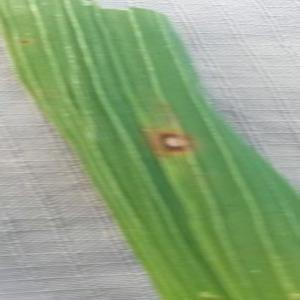Brown_Spot: (147, 123, 202, 160), (16, 36, 35, 50)
